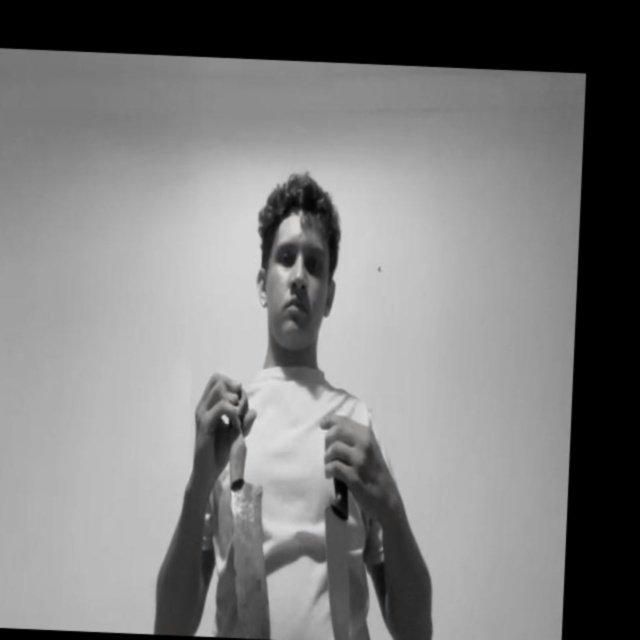Sharp-Object: (225, 482, 275, 640), (319, 505, 355, 640)
